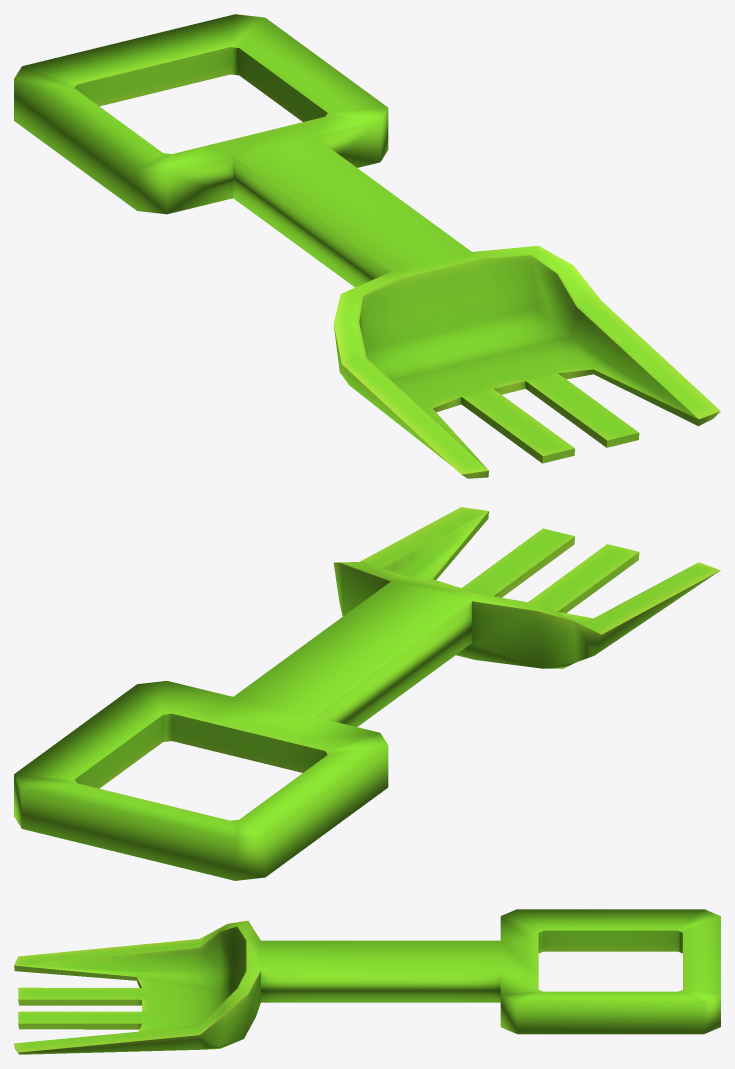
Rendered from plastic_fork.fbx.
3 renders of one model, top to bottom at view 1: azimuth 30°, elevation 25°; view 2: azimuth 150°, elevation 25°; view 3: azimuth 270°, elevation 25°, orthographic. The views are drawn at different scales.
Visible parts, largest first — view 1: plastic_fork_mesh; view 2: plastic_fork_mesh; view 3: plastic_fork_mesh.
Part boxes in pixels (box(x1,y1,x2,y2)): plastic_fork_mesh: box(14, 14, 720, 478); plastic_fork_mesh: box(14, 507, 720, 880); plastic_fork_mesh: box(14, 909, 720, 1054).
Size of the model in its own units: 0.1602 by 0.0434 by 0.4971.
